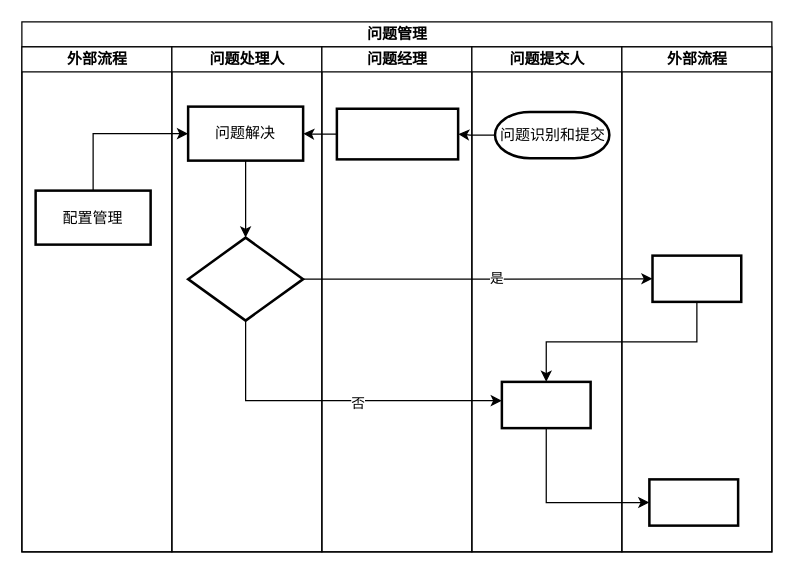
The diagram is 794 pixels wide and 574 high, and some of its shapes have lost their labels. Each missing label, with the centre of its shape:
变更管理: (696,278)
是否需变更？: (245,278)
知识库: (693,502)
问题关闭: (545,404)
问题分类和分配: (397,133)
